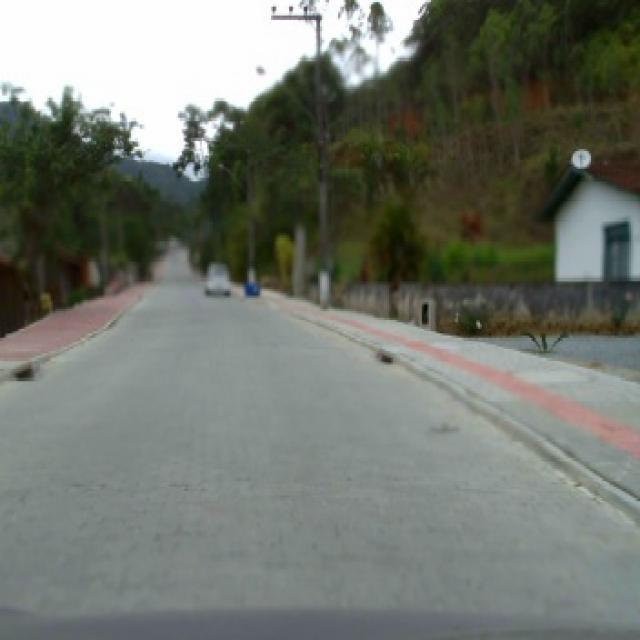Poth-hole: (12, 362, 32, 380), (378, 348, 393, 364)
